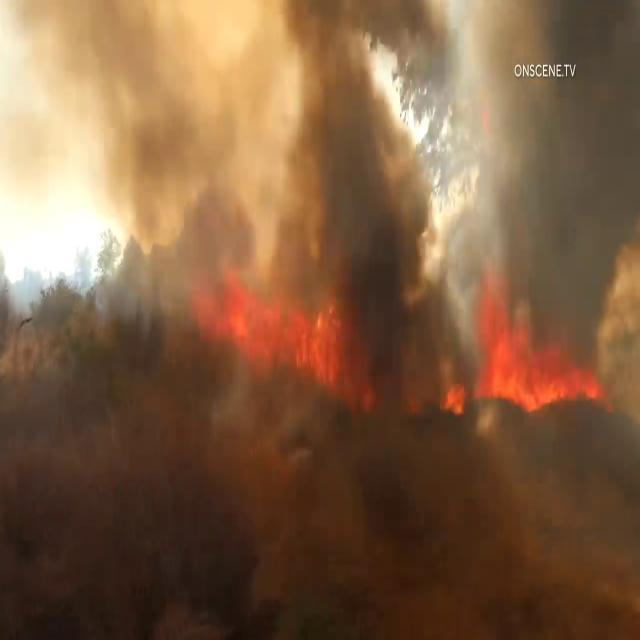Fire: (218, 268, 342, 391), (482, 323, 604, 416)
Smoke: (3, 1, 464, 420), (453, 1, 640, 387)
